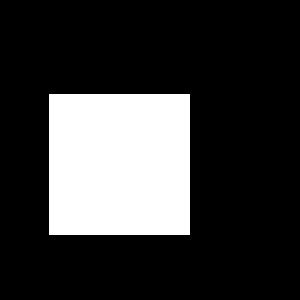circle: (49, 94, 190, 235)
